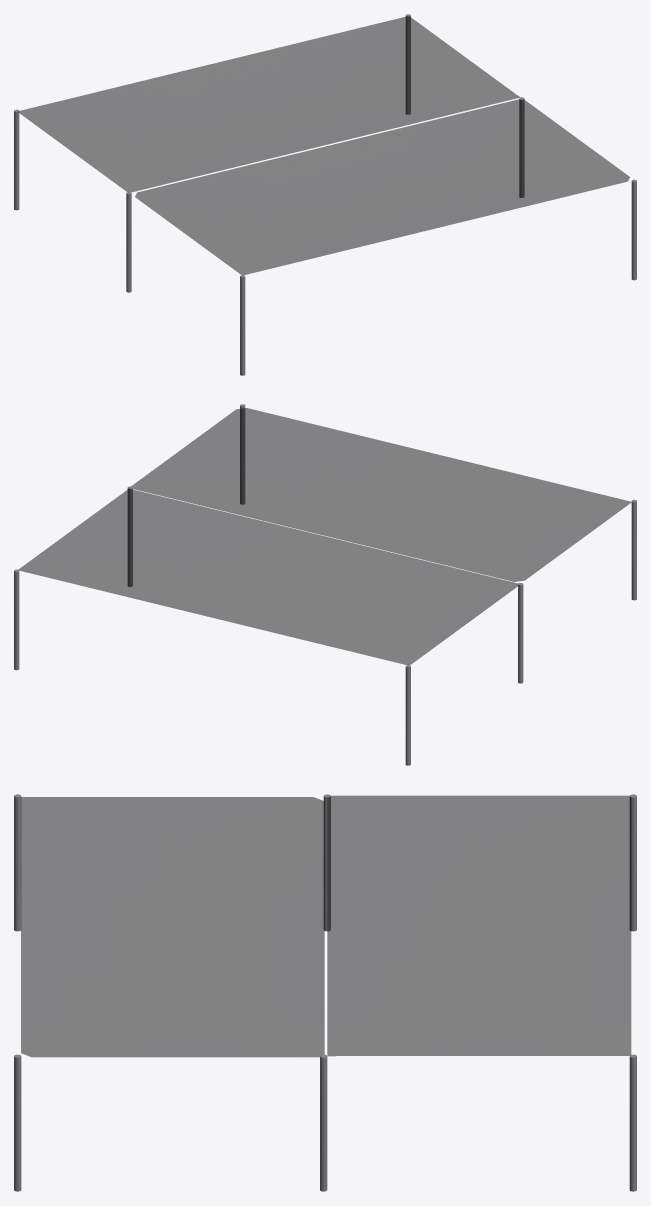
File: TelemReshetTzel_LOD1.gltf
3 views of the same model, one above another, from view 1: azimuth 30°, elevation 25°; view 2: azimuth 150°, elevation 25°; view 3: azimuth 270°, elevation 25° (orthographic). The views are drawn at different scales.
Visible parts, largest first — view 1: node4, node3; view 2: node4, node3; view 3: node4, node3.
Part boxes in pixels (left/top/right/bottom): node4: left=18, top=16, right=629, bottom=275; node3: left=14, top=14, right=636, bottom=375; node4: left=18, top=408, right=631, bottom=665; node3: left=14, top=404, right=636, bottom=765; node4: left=21, top=795, right=631, bottom=1057; node3: left=14, top=794, right=636, bottom=1191.
Size of the model in its own units: 25.3 by 6 by 25.3.
